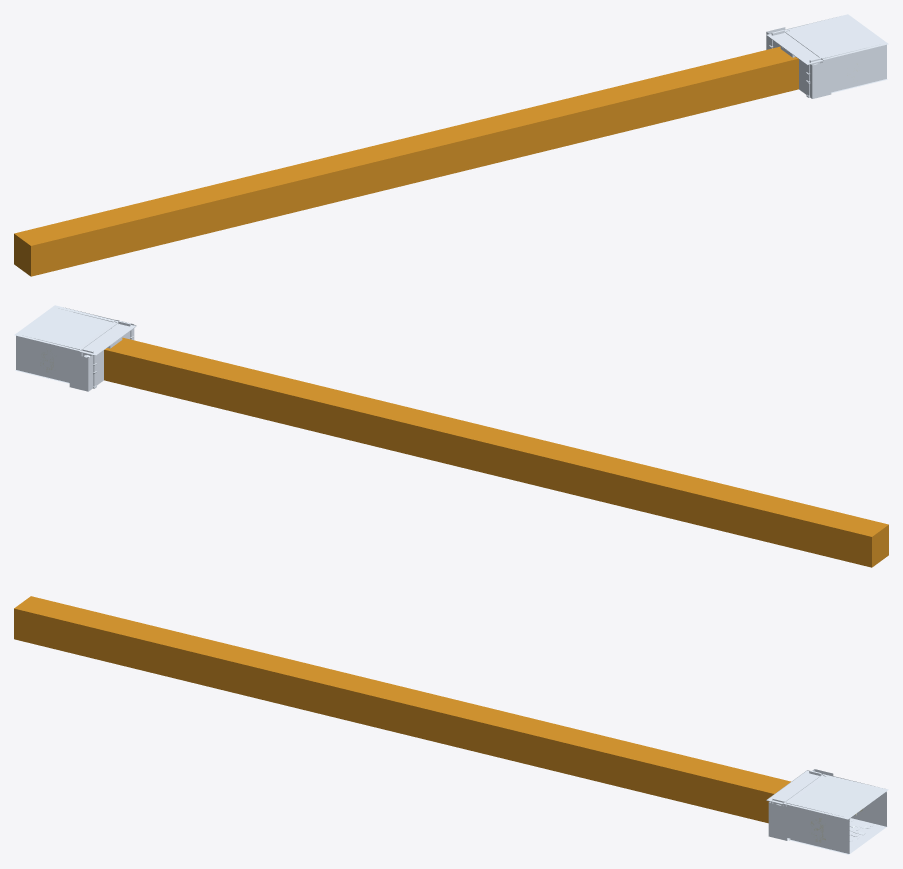
3 views of the same model, one above another, from view 1: azimuth 30°, elevation 25°; view 2: azimuth 150°, elevation 25°; view 3: azimuth 330°, elevation 25° (orthographic).
Visible parts, largest first — view 1: Cube.009, Cube.139, Cube.135, Cube.159, Cube.138; view 2: Cube.009, Cube.139, Cube.134, Cube.159, Cube.138; view 3: Cube.009, Cube.139, Cube.135, Cube.159, Plane.009, Cube.134, Cube.138.
Part boxes in pixels (x1,y1,x2,y2): Cube.009: (14,46,798,276); Cube.139: (783,14,888,60); Cube.135: (823,44,886,92); Cube.159: (766,27,831,98); Cube.138: (766,32,826,64); Cube.009: (104,337,888,567); Cube.139: (14,305,118,351); Cube.134: (16,335,79,382); Cube.159: (69,320,134,391); Cube.138: (76,323,136,355); Cube.009: (14,596,790,823); Cube.139: (782,773,888,819); Cube.135: (786,802,849,853); Cube.159: (768,769,833,840); Plane.009: (789,818,887,854); Cube.134: (823,775,886,826); Cube.138: (766,770,822,805).
Size of the model in its own units: 421 by 18.14 by 39.65.
